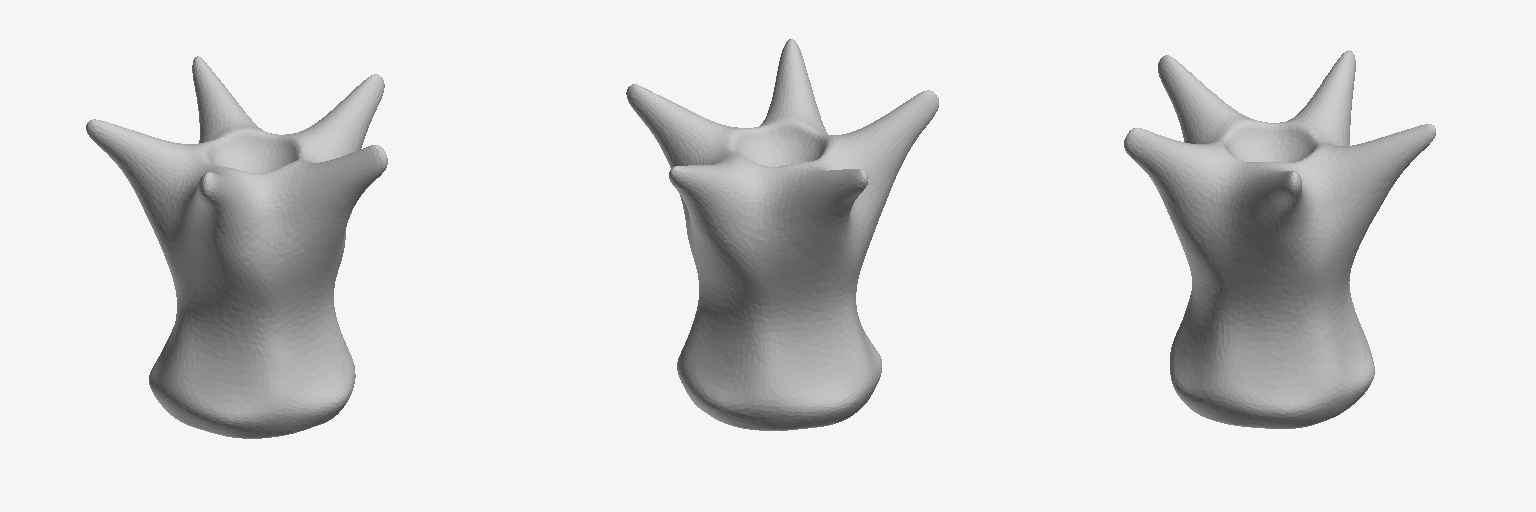
Rendered from eat-2.obj.
3 views of the same model, side by side, from view 1: azimuth 30°, elevation 25°; view 2: azimuth 150°, elevation 25°; view 3: azimuth 270°, elevation 25° (orthographic).
Visible parts, largest first — view 1: Quad_Sphere; view 2: Quad_Sphere; view 3: Quad_Sphere.
Part boxes in pixels (x1,y1,x2,y2): Quad_Sphere: (86, 56, 387, 438); Quad_Sphere: (626, 39, 938, 430); Quad_Sphere: (1124, 50, 1435, 428).
Size of the model in its own units: 4.56 by 4.92 by 4.58.